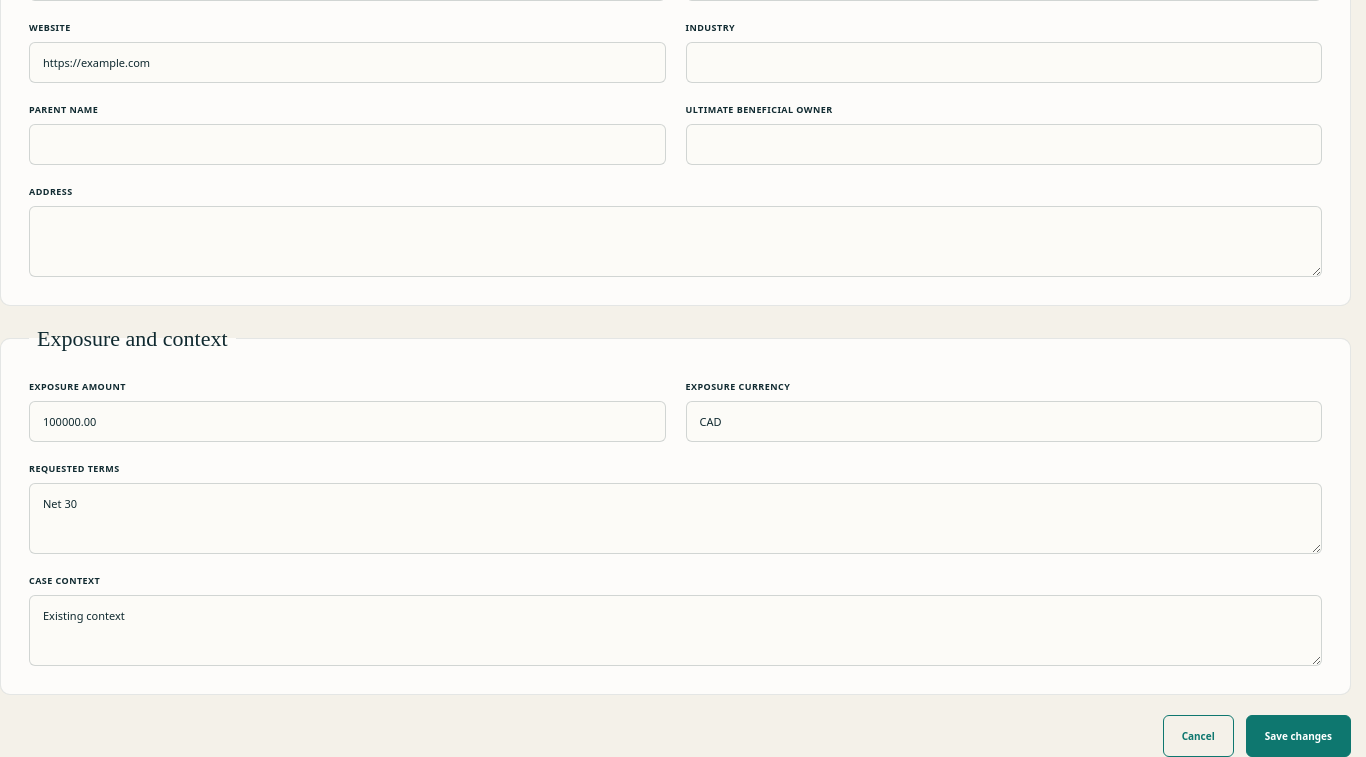
Test: case form › shows the server conflict, reloads, and lets the user redo the edit
(page scrolled)
Expected: the text box showing "Existing context" is shown, x1=29 y1=595 x2=1322 y2=666
Click the button "Save changes" at (1298, 736), box x1=1246 y1=715 x2=1351 y2=756
(page scrolled)
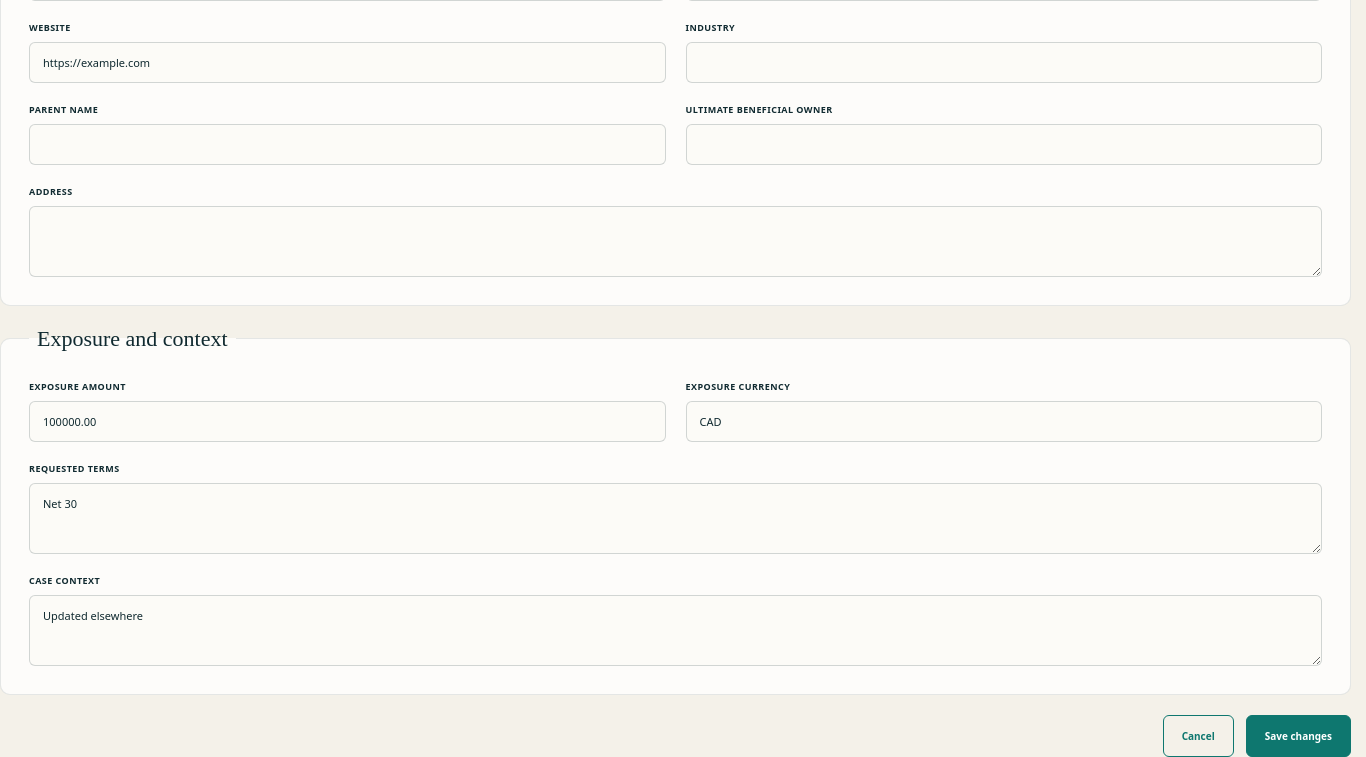
Expected: the text box showing "Updated elsewhere" is shown, x1=29 y1=595 x2=1322 y2=666
